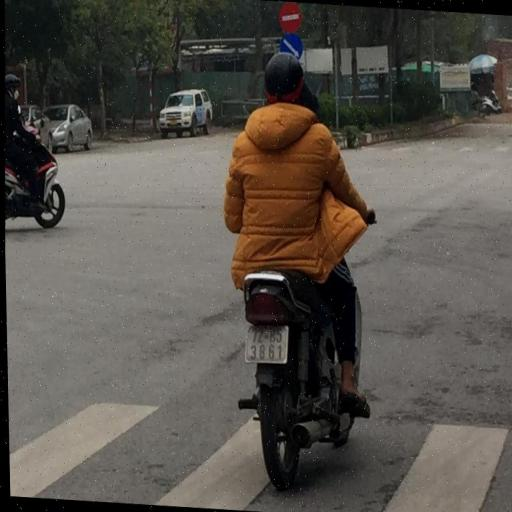bike: (217, 46, 381, 495), (2, 70, 66, 233)
numberplate: (239, 323, 291, 366)
with helmet: (262, 48, 306, 97), (6, 68, 24, 99)
